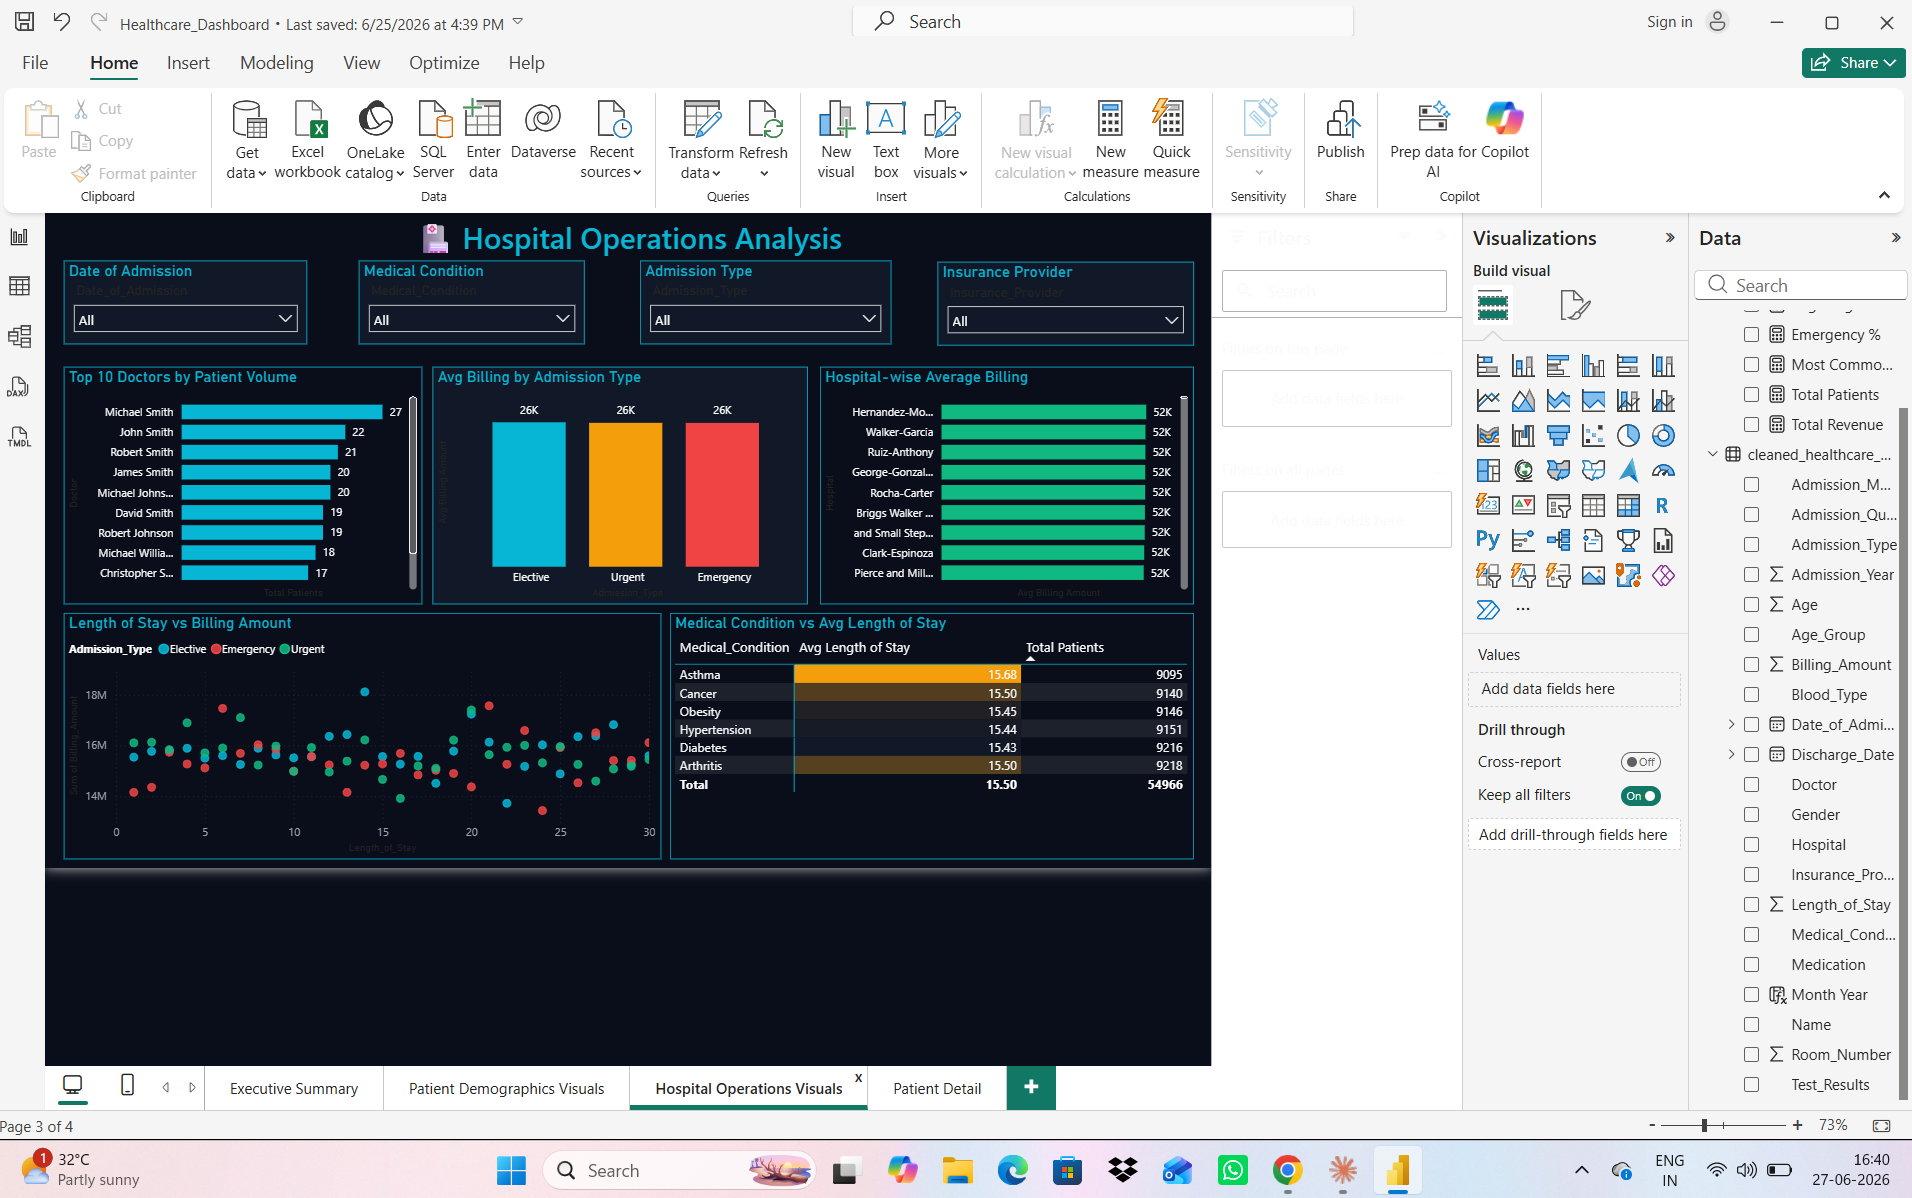

The dashboard page shown, as its layout file describes it:
{"tool":"powerbi","page":{"name":"Hospital Operations  Visuals","canvas":[1280,720],"ordinal":2},"visuals":[{"type":"textbox","box":[0,0,1280.3,52.1],"z":0},{"type":"slicer","title":"Date of Admission","fields":{"Values":["cleaned_healthcare_dataset.Date_of_Admission"]},"box":[20.6,52.1,267.6,91.9],"z":1000},{"type":"slicer","title":"Insurance Provider","fields":{"Values":["cleaned_healthcare_dataset.Insurance_Provider"]},"box":[979.8,53.5,281.3,91.9],"z":2000},{"type":"slicer","title":"Medical Condition","fields":{"Values":["cleaned_healthcare_dataset.Medical_Condition"]},"box":[344.4,52.1,248.4,91.9],"z":3000},{"type":"slicer","title":"Admission Type","fields":{"Values":["cleaned_healthcare_dataset.Admission_Type"]},"box":[653.2,52.1,275.8,91.9],"z":4000},{"type":"clusteredBarChart","title":"Top 10 Doctors by Patient Volume","fields":{"Category":["cleaned_healthcare_dataset.Doctor"],"Y":["Table_Measures.Total Patients"]},"box":[20.6,168.8,393.8,260.7],"z":5000},{"type":"clusteredBarChart","title":"Hospital-wise Average Billing","fields":{"Category":["cleaned_healthcare_dataset.Hospital"],"Y":["Table_Measures.Avg Billing Amount"]},"box":[850.8,168.8,410.3,260.7],"z":6000},{"type":"scatterChart","title":"Length of Stay vs Billing Amount","fields":{"X":["cleaned_healthcare_dataset.Length_of_Stay"],"Y":["Sum(cleaned_healthcare_dataset.Billing_Amount)"],"Series":["cleaned_healthcare_dataset.Admission_Type"]},"box":[20.6,439.1,655.9,270.3],"z":7000},{"type":"pivotTable","title":"Medical Condition vs Avg Length of Stay","fields":{"Rows":["cleaned_healthcare_dataset.Medical_Condition"],"Values":["Table_Measures.Avg Length of Stay","Table_Measures.Total Patients"]},"box":[686.1,439.1,575,270.3],"z":8000},{"type":"clusteredColumnChart","title":"Avg Billing by Admission Type","fields":{"Category":["cleaned_healthcare_dataset.Admission_Type"],"Y":["Table_Measures.Avg Billing Amount"]},"box":[425.4,168.8,411.7,260.7],"z":9000}]}

Visuals, with their boxes on the page's 1280x720 design canvas (x1, y1, x2, y2). These are canvas units, not pixel positions in the 1912x1198 screenshot, which may show the page scaled, cropped or inside an application window:
textbox: box=[0, 0, 1280, 52]
"Date of Admission" slicer: box=[21, 52, 288, 144]
"Insurance Provider" slicer: box=[980, 54, 1261, 145]
"Medical Condition" slicer: box=[344, 52, 593, 144]
"Admission Type" slicer: box=[653, 52, 929, 144]
"Top 10 Doctors by Patient Volume" clusteredBarChart: box=[21, 169, 414, 430]
"Hospital-wise Average Billing" clusteredBarChart: box=[851, 169, 1261, 430]
"Length of Stay vs Billing Amount" scatterChart: box=[21, 439, 676, 709]
"Medical Condition vs Avg Length of Stay" pivotTable: box=[686, 439, 1261, 709]
"Avg Billing by Admission Type" clusteredColumnChart: box=[425, 169, 837, 430]
